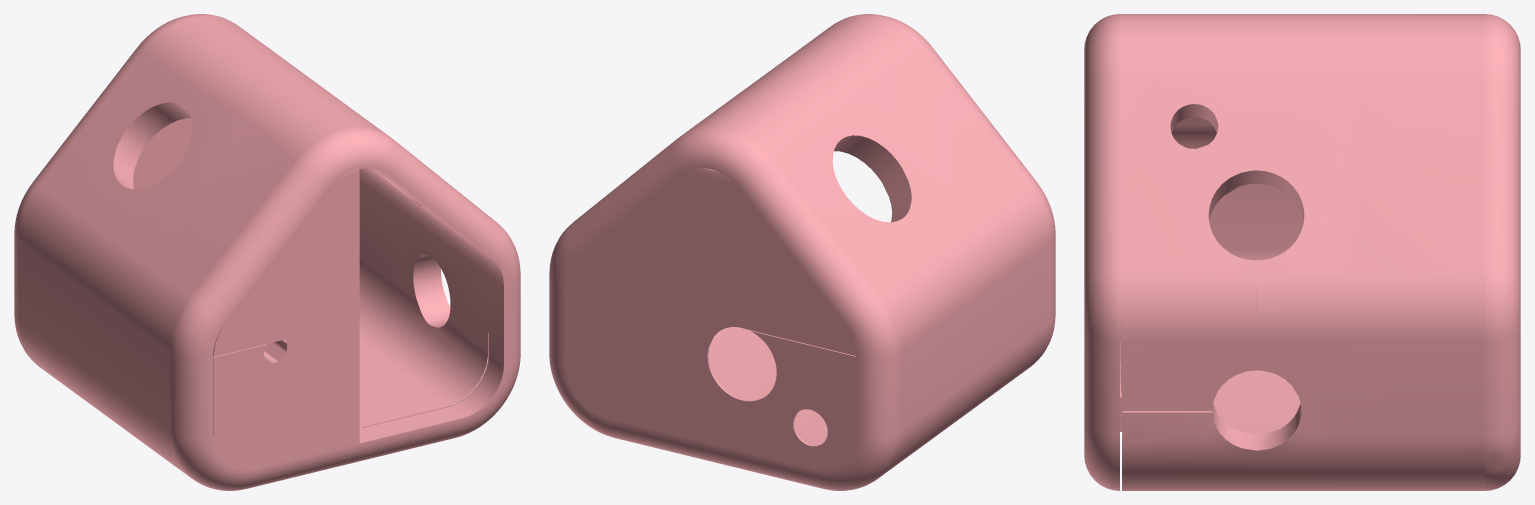
File: HomieHead10.glb
The picture shows the model from 3 angles, left to right: view 1: azimuth 30°, elevation 25°; view 2: azimuth 150°, elevation 25°; view 3: azimuth 270°, elevation 25°; orthographic projection. The views are drawn at different scales.
Parts seen in each view (by area): view 1: Brep.406, Brep.407; view 2: Brep.406; view 3: Brep.406.
Part boxes in pixels (x1=…): Brep.406: x1=14, y1=14, x2=520, y2=490; Brep.407: x1=213, y1=169, x2=359, y2=469; Brep.406: x1=549, y1=14, x2=1055, y2=490; Brep.406: x1=1084, y1=14, x2=1520, y2=490.
Bounding box in the file's own units: 0.5144 × 0.4718 × 0.4685.
